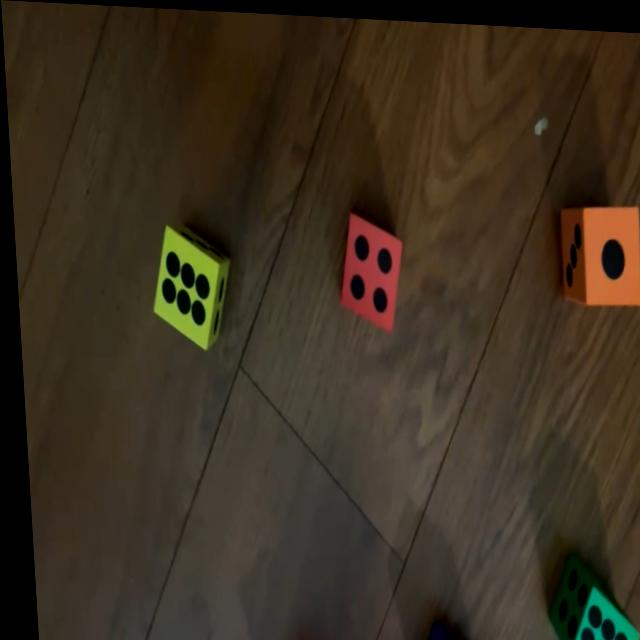cube: (330, 209, 403, 330), (536, 551, 632, 640), (414, 622, 462, 640)
